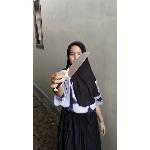Pisau: (53, 50, 93, 90)
